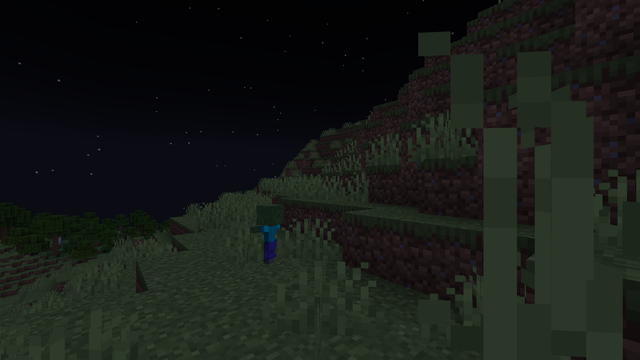zombies: (259, 211, 280, 265)
